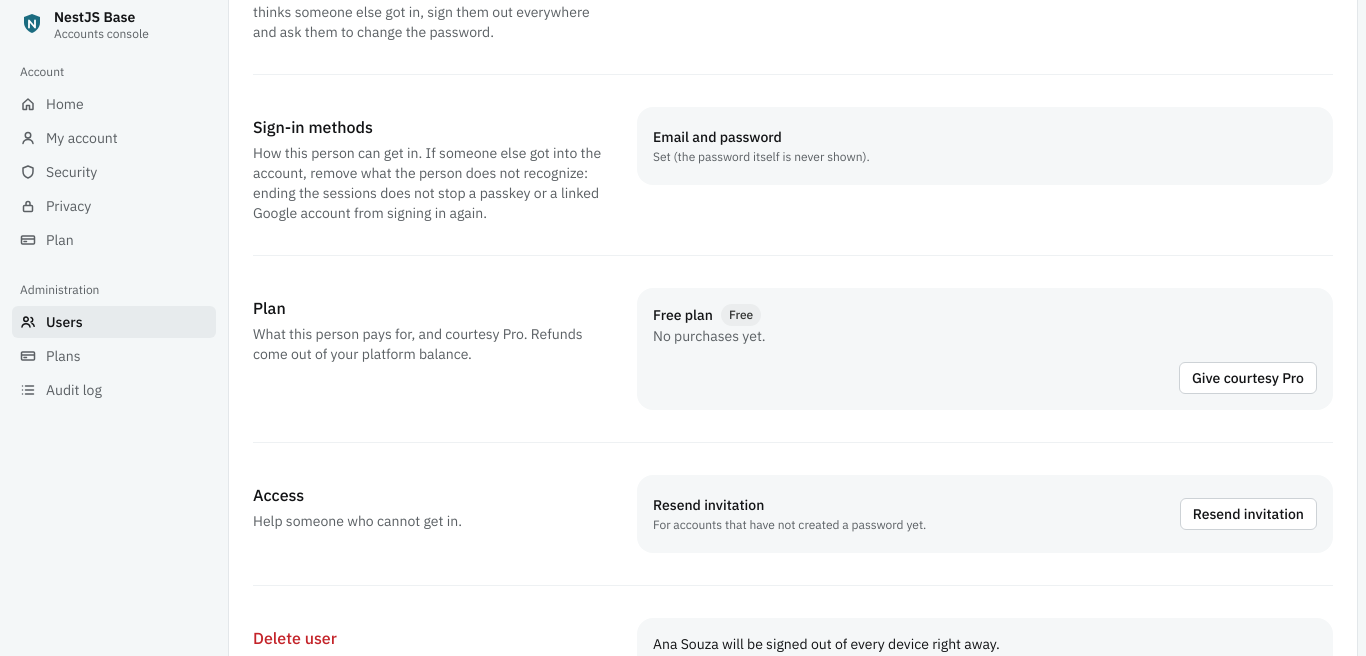
it: Plano do usuário (admin) › cortesia: dá por 3 meses e depois encerra
(page scrolled)
Check: the text "Free plan" is shown, box [653,306,713,324]
Click the button "Give courtesy Pro": [1248, 378] box [1179,362,1317,394]
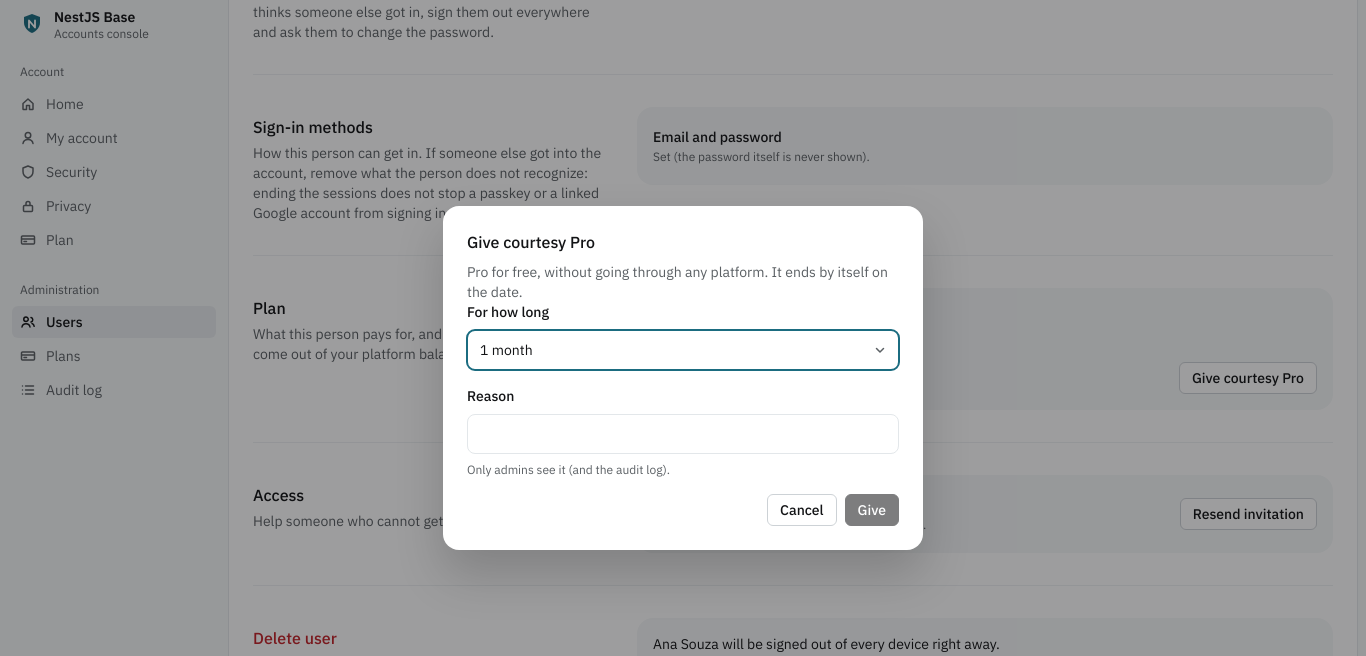
Select "3 months" in the dropdown labelled "For how long": [683, 350] box [467,330,899,370]
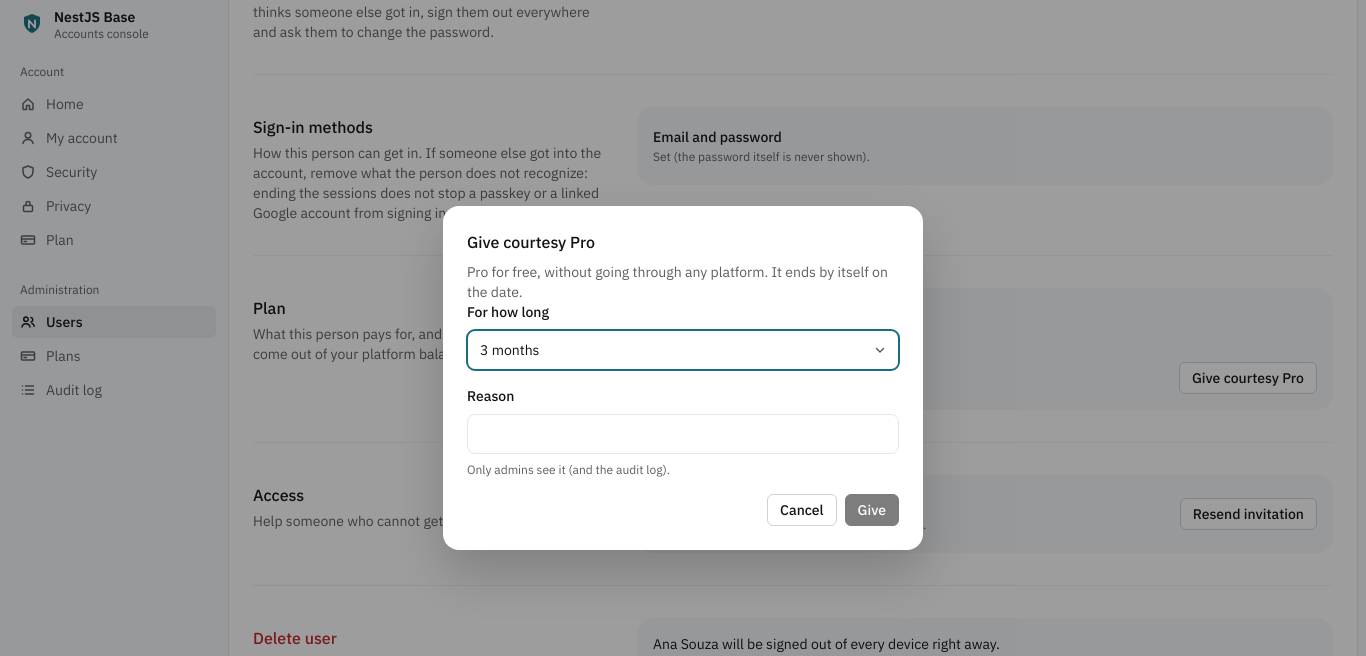
Check: the button "Give" is disabled, box [845,494,899,526]
In the field labelled "Reason": [683, 434] box [467,414,899,454], type "Instabilidade"
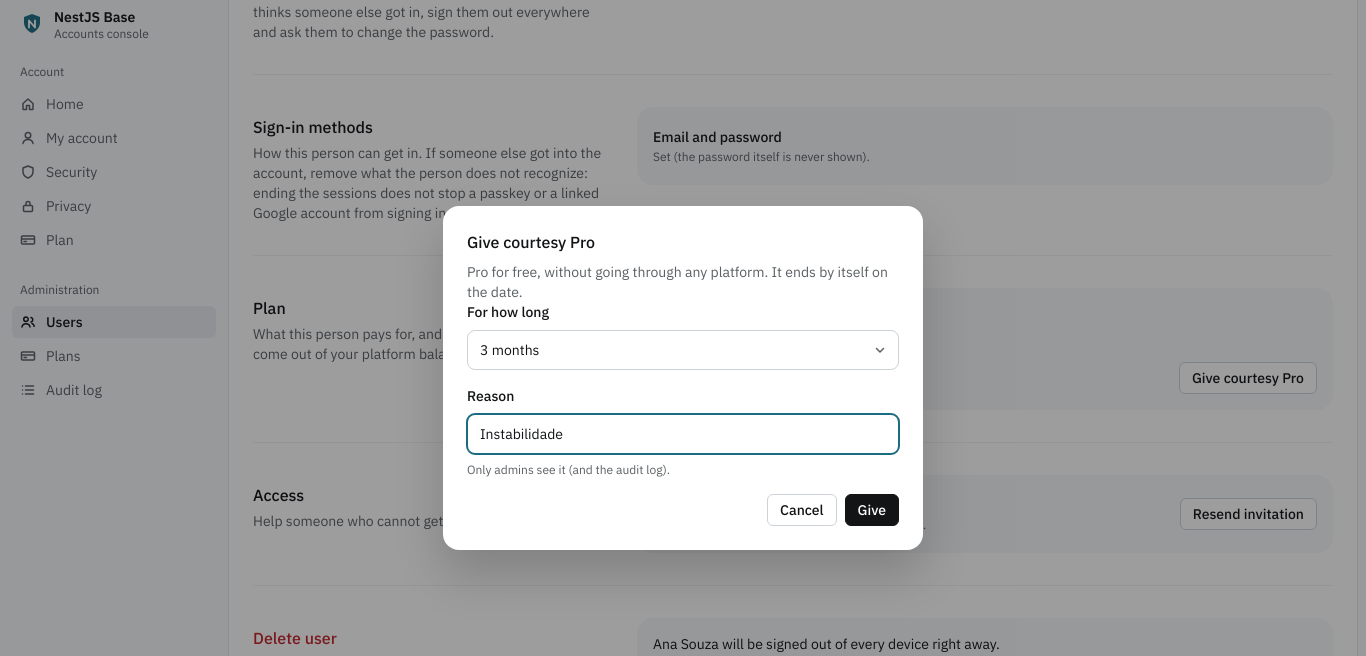
Click the button "Give": [872, 510] box [845,494,899,526]
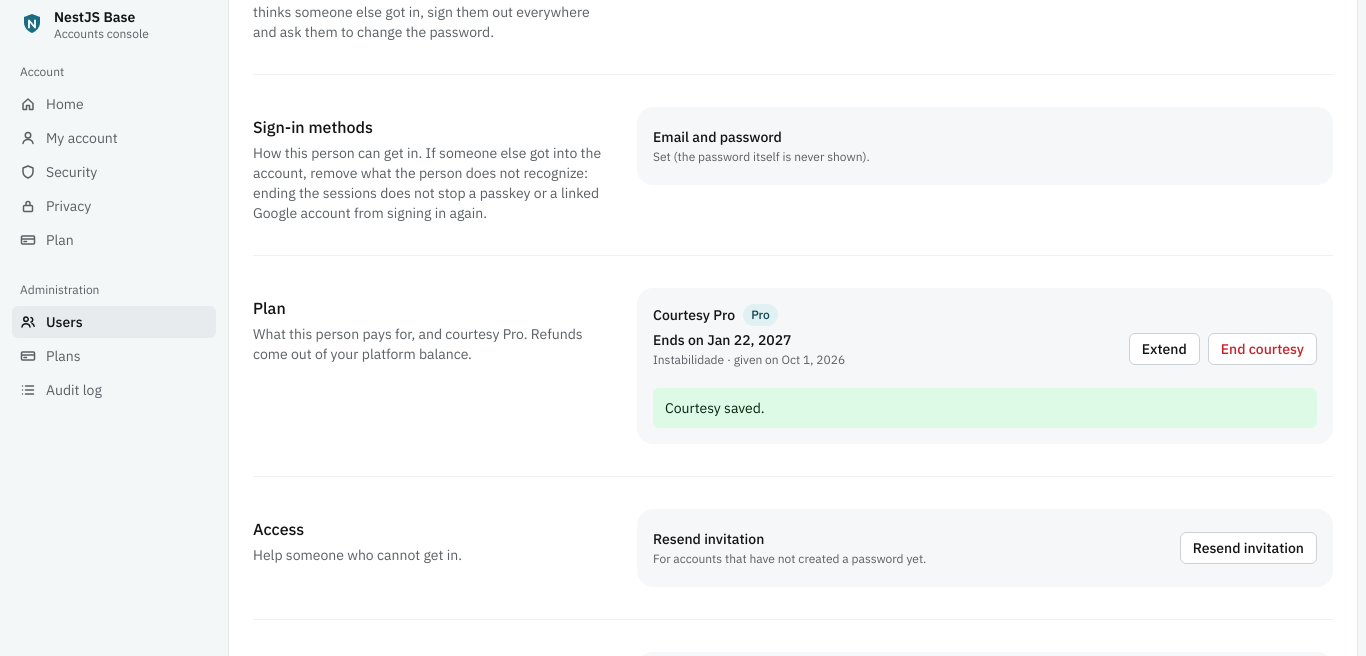
Check: the text "Instabilidade · given on Oct 1, 2026" is shown, box [653,352,845,368]
Check: the text "Courtesy Pro" is shown, box [653,306,735,324]
Check: the text "Ends on Jan 22, 2027" is shown, box [653,331,792,349]
Click the button "End courtesy": [1262, 349] box [1208,333,1317,365]
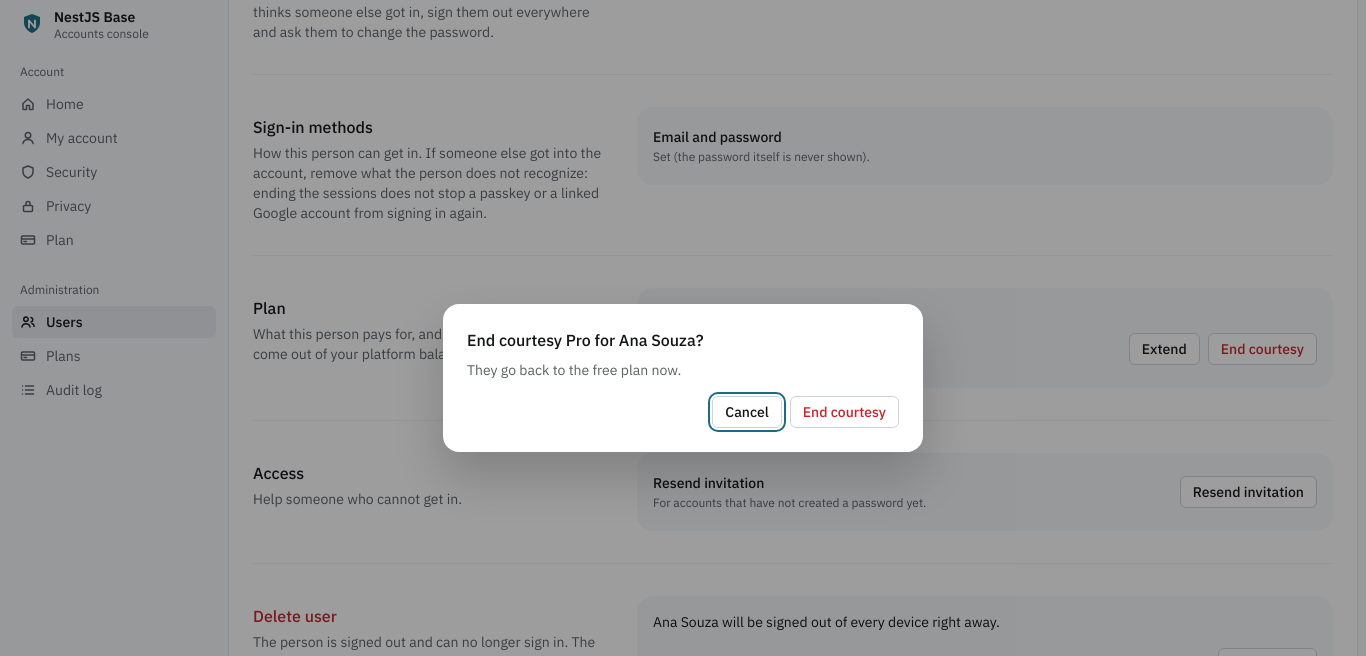
Click the button "End courtesy": [844, 412] box [790,396,899,428]
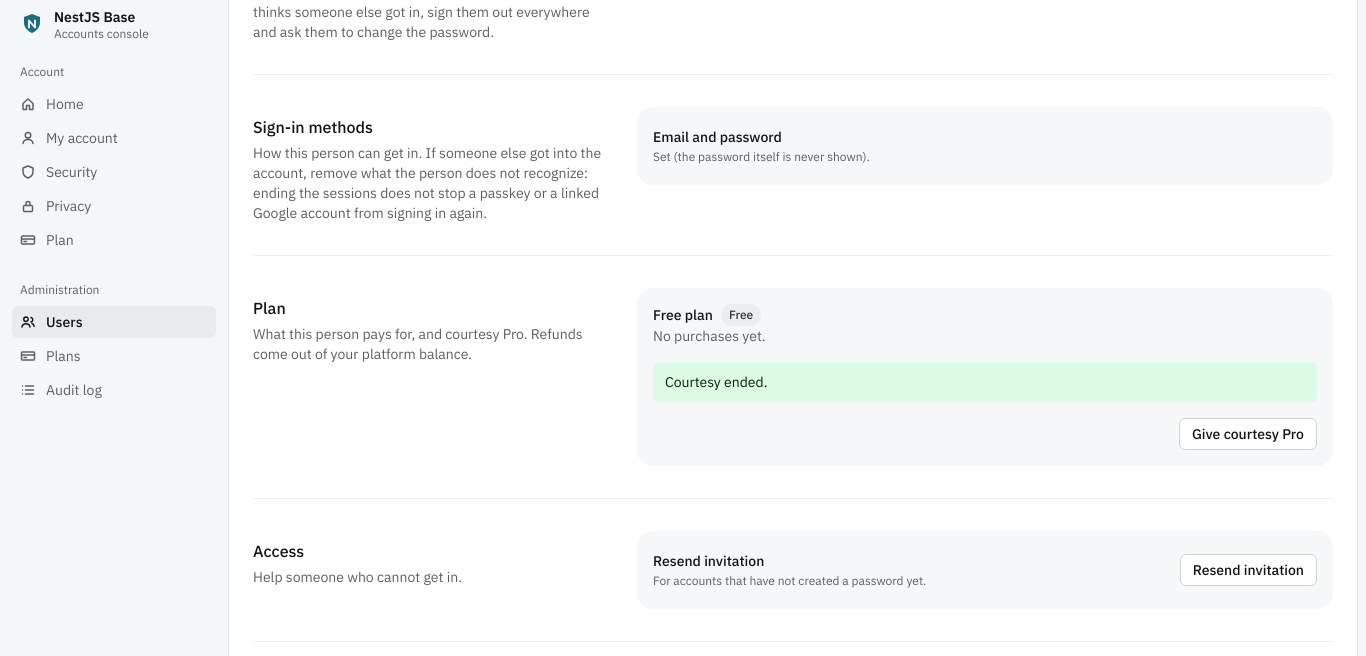
Check: the text "Courtesy ended." is shown, box [653,362,1317,402]
